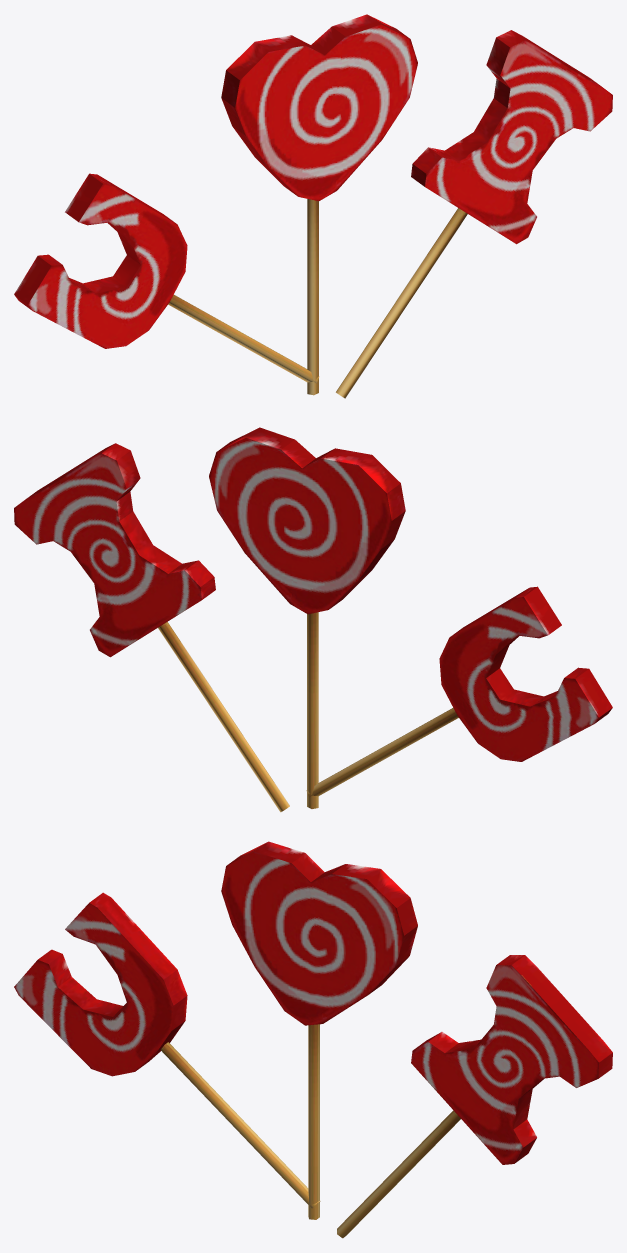
The model's file is furni_0200204.FBX.
3 renders of one model, top to bottom at view 1: azimuth 30°, elevation 25°; view 2: azimuth 150°, elevation 25°; view 3: azimuth 330°, elevation 25°, orthographic.
Parts seen in each view (by area): view 1: furni_0200204; view 2: furni_0200204; view 3: furni_0200204.
Part boxes in pixels (x1,y1,x2,y2): furni_0200204: (14, 14, 612, 398); furni_0200204: (14, 427, 612, 812); furni_0200204: (14, 841, 612, 1238).
Size of the model in its own units: 133 by 80.74 by 5.5.
Materials: 1 (1 with a texture image).
